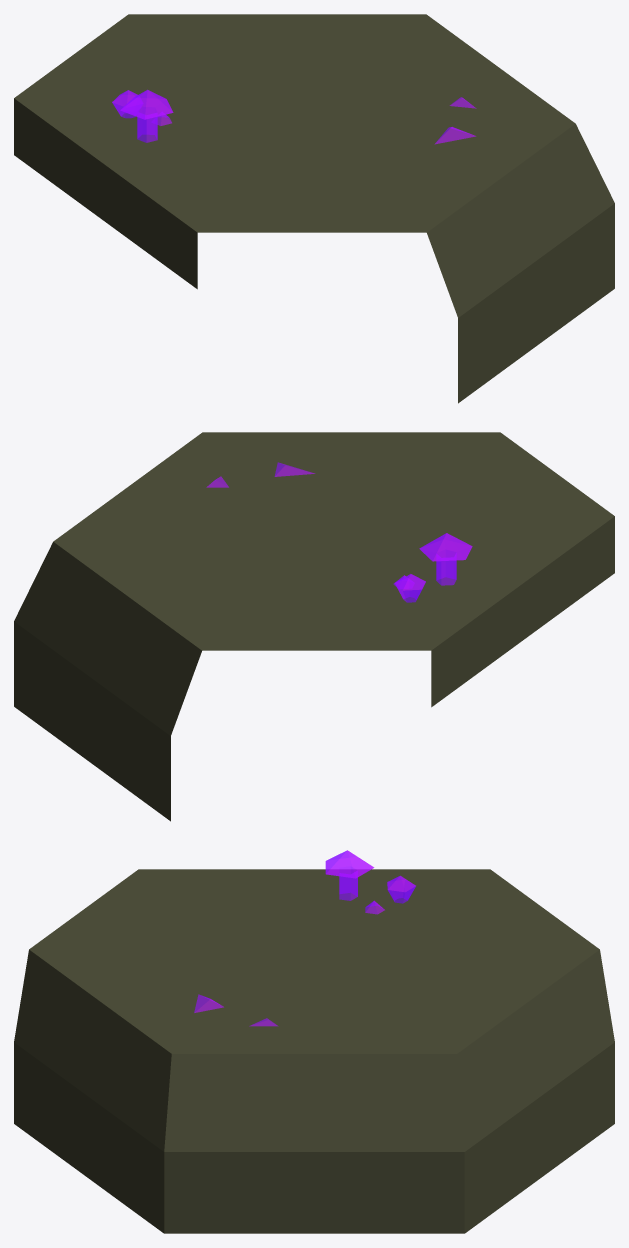
File: nearpointUnit6(2).fbx
The picture shows the model from 3 angles, top to bottom: view 1: azimuth 30°, elevation 25°; view 2: azimuth 150°, elevation 25°; view 3: azimuth 270°, elevation 25°; orthographic projection. The views are drawn at different scales.
Visible parts, largest first — view 1: nearpointUnit6(2); view 2: nearpointUnit6(2); view 3: nearpointUnit6(2).
Boxes of the visible parts, left/top/right/bottom form: nearpointUnit6(2): left=14, top=14, right=614, bottom=403; nearpointUnit6(2): left=14, top=432, right=614, bottom=821; nearpointUnit6(2): left=14, top=850, right=614, bottom=1233.
Size of the model in its own units: 1.58 by 2 by 0.7714.
